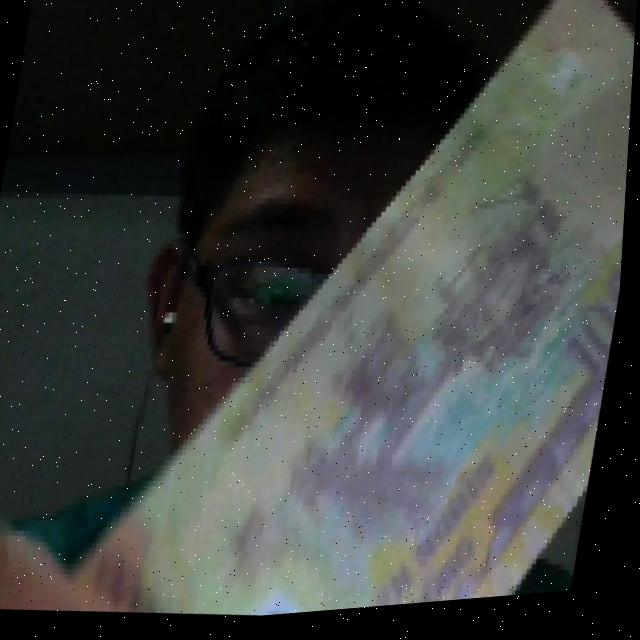10 000 VND: (67, 0, 640, 634)
